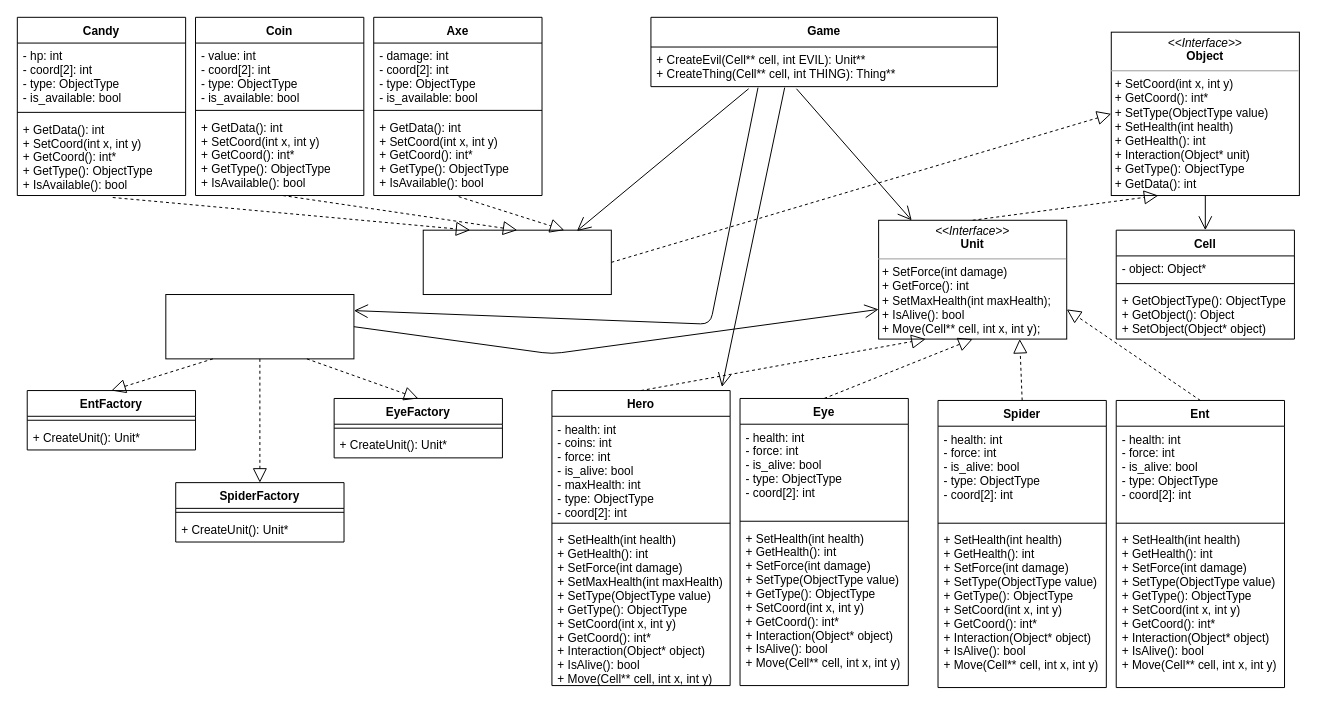
The diagram is 1317 pixels wide and 708 high, and some of its shapes have lost their labels. The centre of each missing label's shape, as x and y in pixels:
"<<Interface>> ObjectFabric + CreateUnit(): Unit*" goes at point 259,326.
"<<Interface>> Thing + IsAvailable(): bool" goes at point 516,262.
